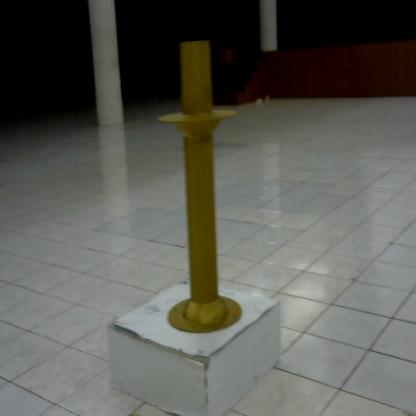pole: (156, 32, 249, 343)
